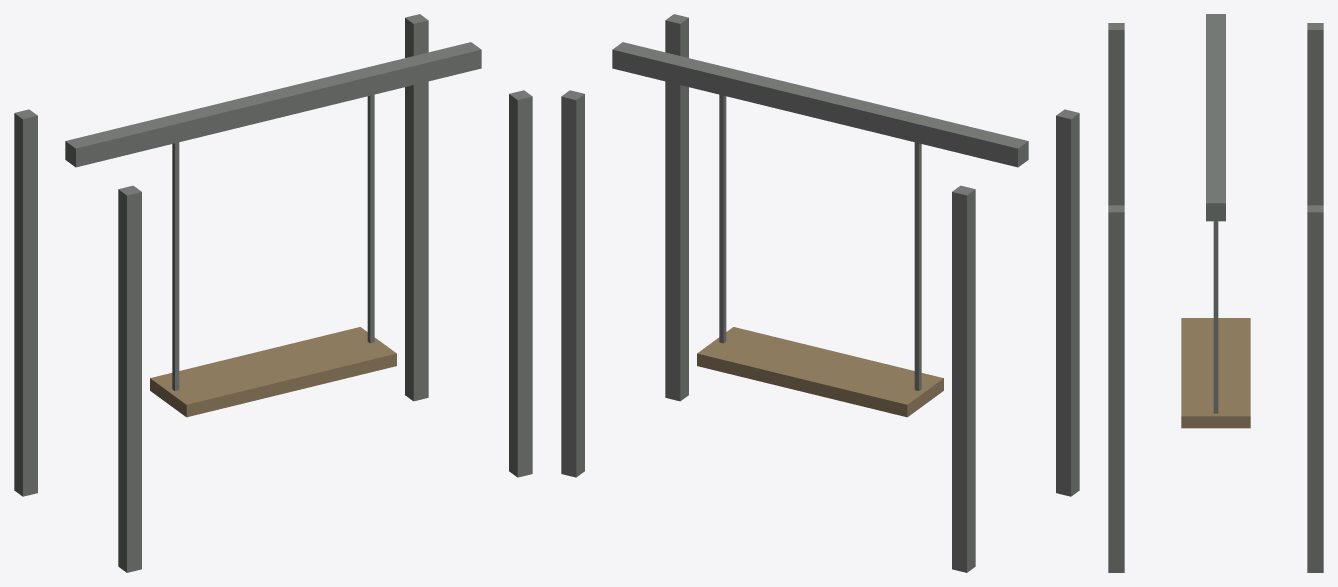
File: p_swing.glb
3 renders of one model, left to right at view 1: azimuth 30°, elevation 25°; view 2: azimuth 150°, elevation 25°; view 3: azimuth 270°, elevation 25°, orthographic. The views are drawn at different scales.
Parts seen in each view (by area): view 1: body; view 2: body; view 3: body.
Boxes of the visible parts, x1=… form: body: x1=14, y1=14, x2=532, y2=572; body: x1=561, y1=14, x2=1079, y2=572; body: x1=1108, y1=14, x2=1323, y2=572.
Size of the model in its own units: 2.7 by 2.46 by 1.3.
